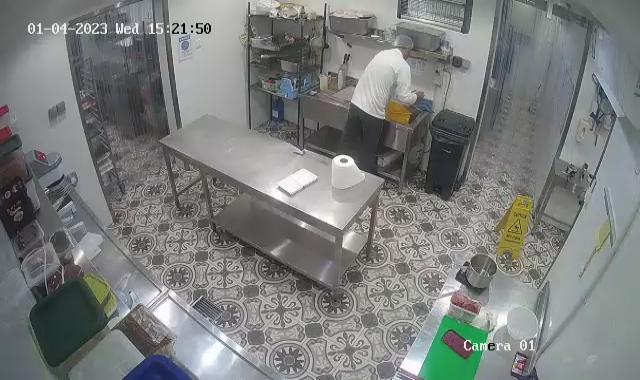hairnet: (390, 36, 420, 52)
